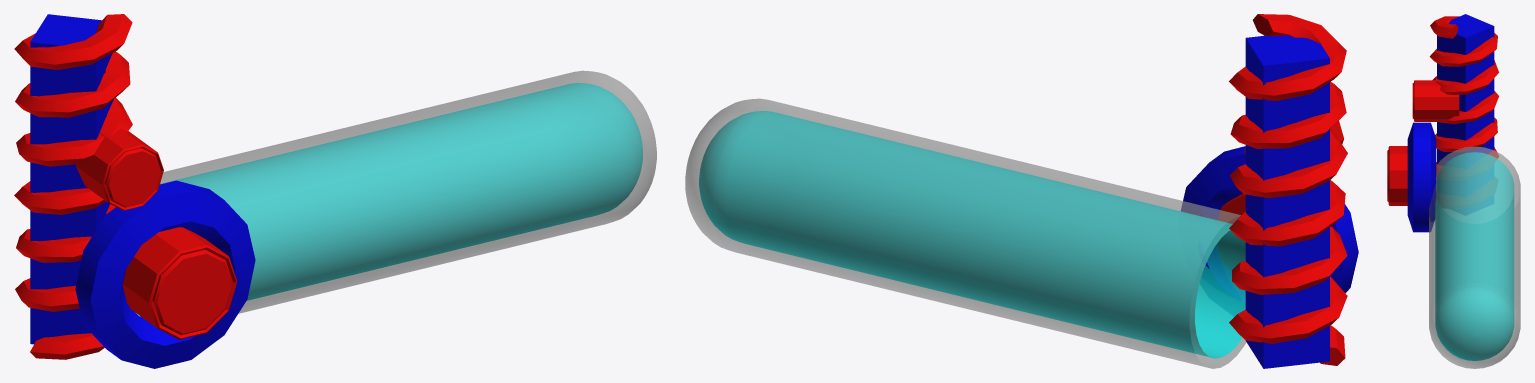
Rendered from gizmov3.fbx.
3 views of the same model, side by side, from view 1: azimuth 30°, elevation 25°; view 2: azimuth 150°, elevation 25°; view 3: azimuth 270°, elevation 25° (orthographic). The views are drawn at different scales.
Parts seen in each view (by area): view 1: vial, scroller, helix, helixpole, mainbutton, auxbutton; view 2: vial, helix, helixpole, scroller, mainbutton; view 3: vial, helixpole, helix, scroller, auxbutton, mainbutton.
Boxes of the visible parts, x1,y1,x2,y2 form: vial: [136, 70, 656, 316]; scroller: [75, 180, 255, 368]; helix: [14, 14, 132, 359]; helixpole: [30, 14, 113, 344]; mainbutton: [122, 227, 237, 339]; auxbutton: [76, 128, 163, 210]; vial: [685, 98, 1246, 368]; helix: [1229, 14, 1347, 365]; helixpole: [1245, 35, 1329, 368]; scroller: [1181, 146, 1358, 300]; mainbutton: [1218, 194, 1245, 269]; vial: [1429, 146, 1520, 368]; helixpole: [1437, 14, 1494, 165]; helix: [1429, 16, 1498, 177]; scroller: [1407, 122, 1436, 232]; auxbutton: [1412, 80, 1459, 121]; mainbutton: [1387, 146, 1407, 205].
Size of the model in its own units: 178 by 91.12 by 55.4.
